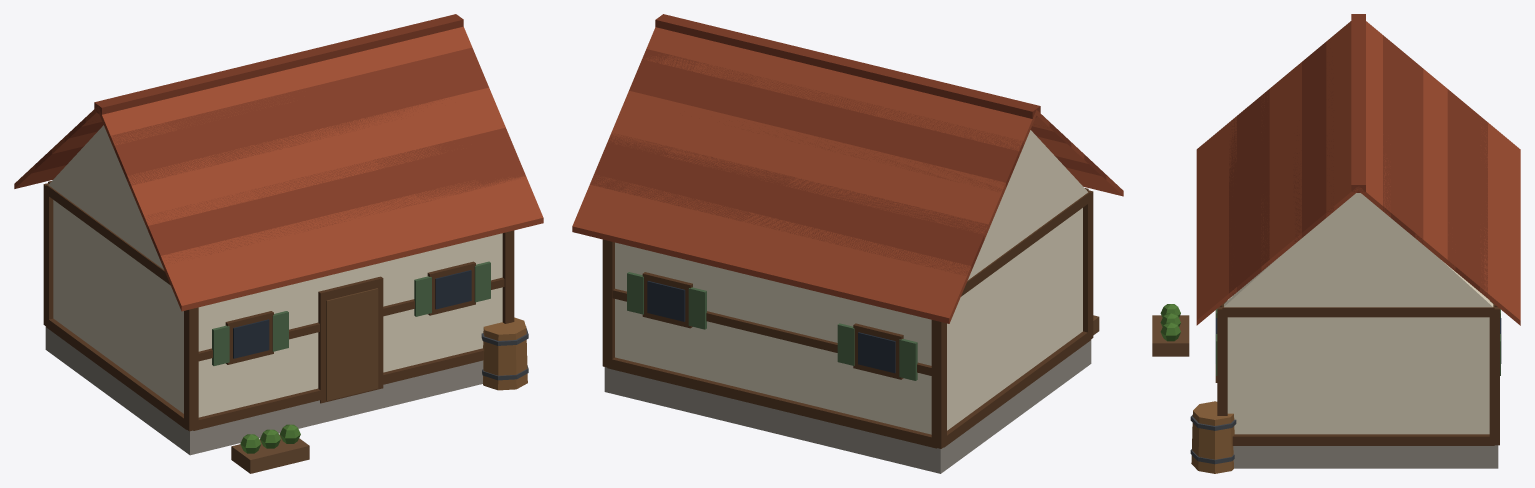
The model's file is house_3.glb.
3 renders of one model, left to right at view 1: azimuth 30°, elevation 25°; view 2: azimuth 150°, elevation 25°; view 3: azimuth 270°, elevation 25°, orthographic. The views are drawn at different scales.
Parts seen in each view (by area): view 1: house_3; view 2: house_3; view 3: house_3.
Boxes of the visible parts, x1,y1,x2,y2 form: house_3: [14, 14, 543, 473]; house_3: [572, 14, 1123, 473]; house_3: [1152, 14, 1520, 473].
Bounding box in the file's own units: 5.5 × 4.39 × 5.
